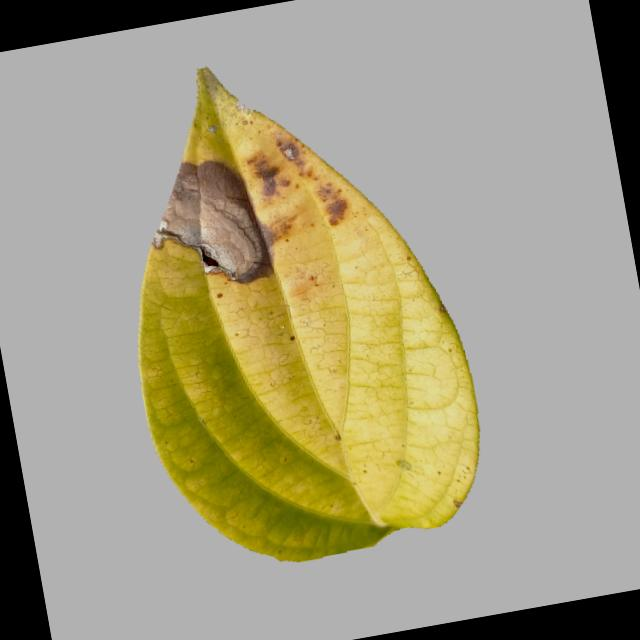leaf-blight: (72, 24, 509, 575)
